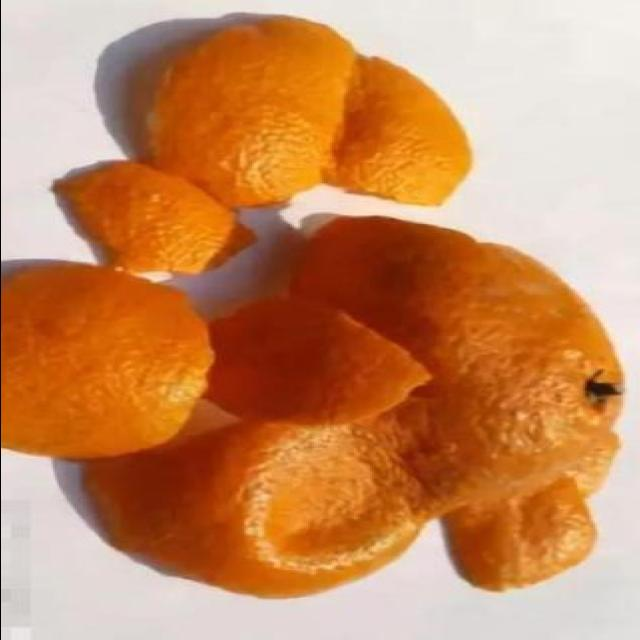-Kitchen waste - fruit-: (91, 214, 629, 606), (146, 18, 470, 208), (1, 266, 210, 462)
